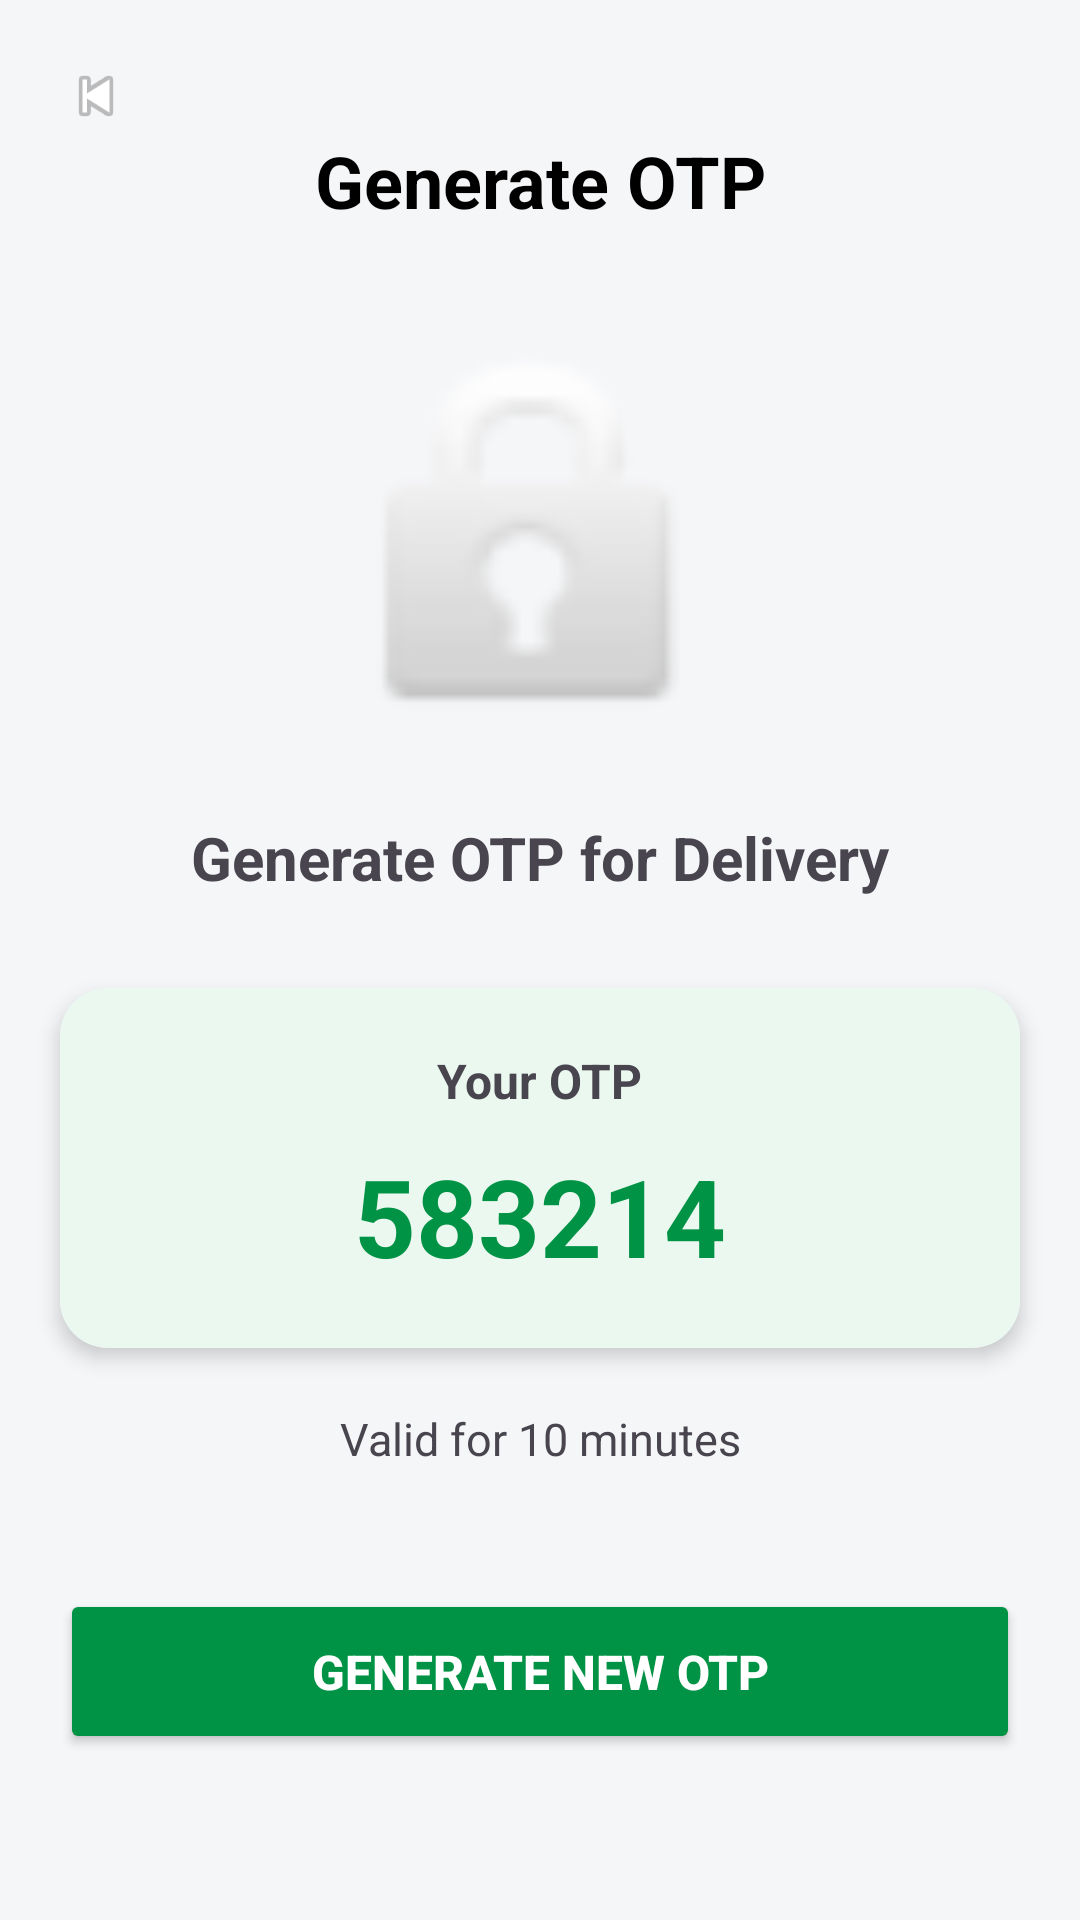

Icon click points for this 1080x1920 phone screenshot, format point (x, y):
previous: point (96, 96)
